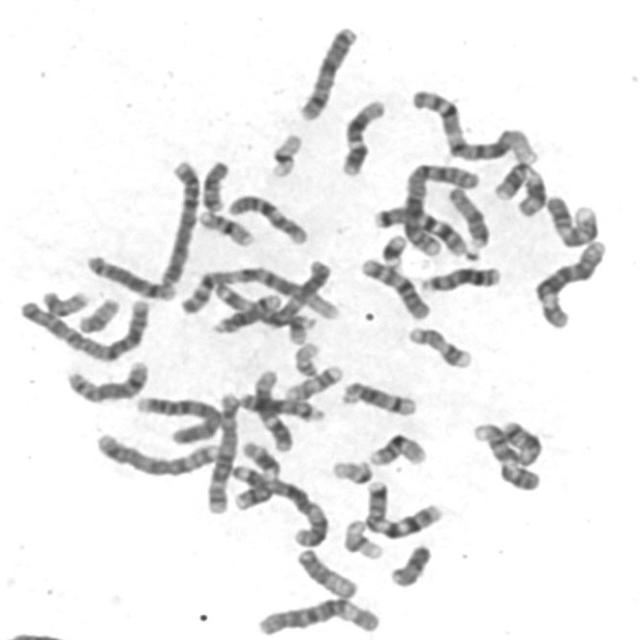A1: (407, 81, 543, 165), (177, 259, 341, 320)
A2: (13, 288, 154, 364), (397, 155, 485, 259)
A3: (227, 459, 332, 548), (217, 252, 339, 328)
B4: (154, 152, 203, 286), (130, 390, 226, 446)
B5: (91, 426, 225, 478), (201, 386, 243, 515)
C10: (356, 251, 436, 321), (224, 188, 312, 245)
C11: (228, 434, 284, 511), (490, 155, 551, 218)
C12: (336, 92, 390, 178), (249, 364, 297, 454)
C6: (531, 233, 612, 330), (252, 591, 386, 639)
C7: (368, 198, 471, 258), (362, 474, 446, 541)
C8: (81, 248, 180, 302), (61, 354, 154, 406)
C9: (469, 416, 545, 492), (542, 188, 603, 249)
D13: (234, 386, 328, 424), (416, 259, 506, 294)
D14: (208, 286, 286, 336), (337, 374, 422, 419)
D15: (292, 542, 363, 601), (442, 181, 493, 253)
E16: (194, 204, 258, 248), (365, 427, 432, 468)
E17: (404, 320, 476, 370), (282, 359, 346, 402)
E18: (499, 418, 546, 468), (198, 154, 234, 212)
F19: (340, 514, 388, 562), (264, 127, 307, 179)
F20: (74, 292, 124, 336), (37, 283, 93, 318)
G21: (376, 228, 412, 270), (282, 307, 318, 345)
G22: (327, 454, 378, 486), (290, 336, 324, 379)
X: (293, 19, 362, 122)
Y: (385, 537, 437, 589)
